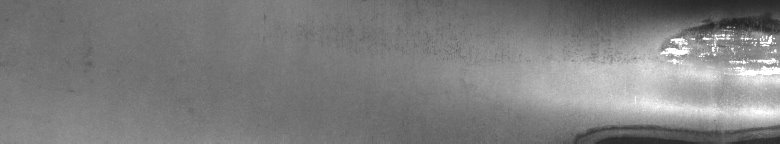ke: (570, 4, 776, 136)
